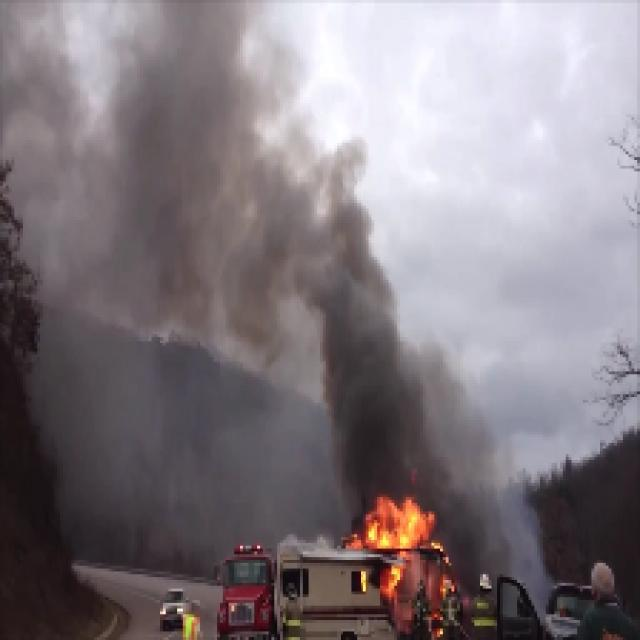Fire: (364, 491, 434, 544)
Smoke: (334, 338, 448, 488), (234, 202, 368, 296)
